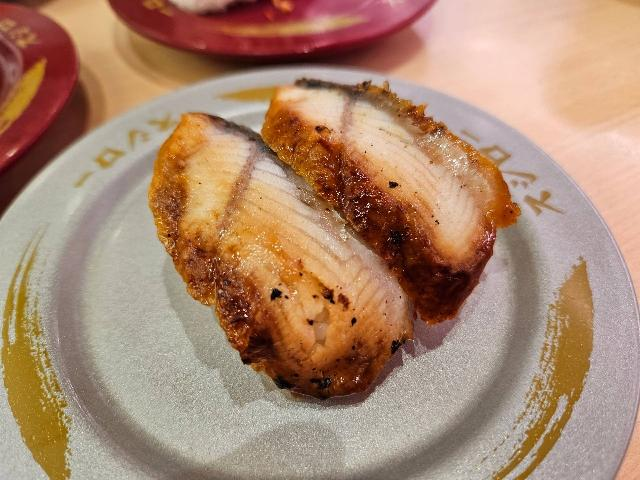janred: (87, 0, 445, 54), (0, 1, 81, 157)
janwhite: (3, 66, 640, 467)
